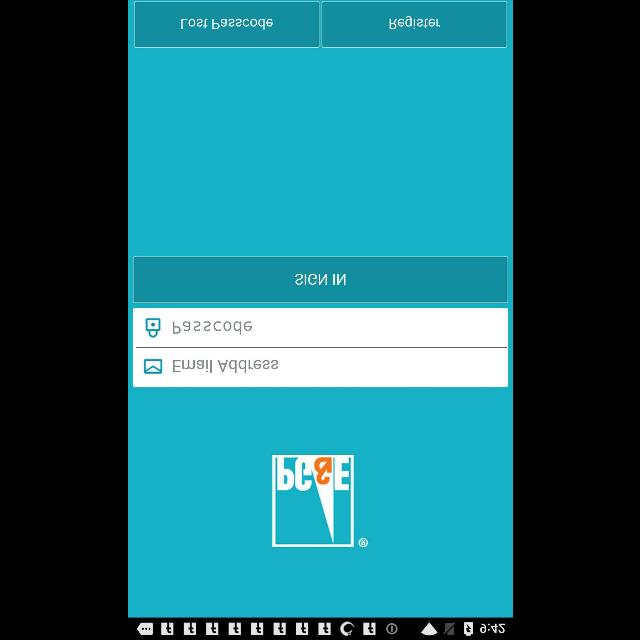icon: (144, 318, 160, 338), (142, 358, 162, 374)
image: (271, 454, 367, 548)
input: (132, 308, 508, 348), (132, 347, 508, 387)
text: (172, 360, 278, 372), (172, 322, 252, 334)
textbutton: (132, 255, 508, 302), (321, 0, 507, 48), (133, 0, 319, 48)
uppertaskbar: (128, 617, 512, 639)
